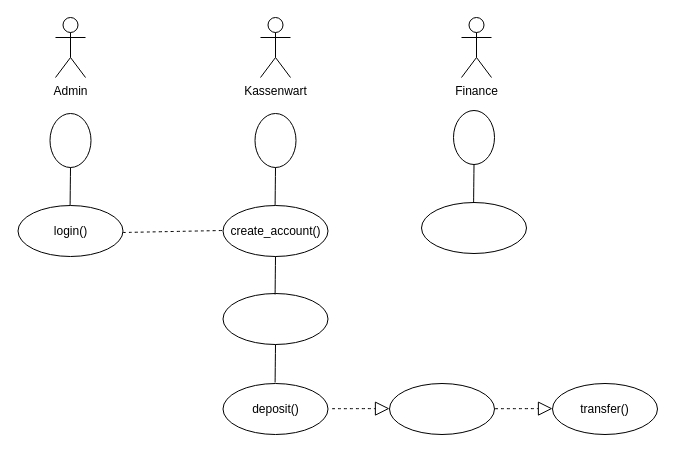
This 675x452 diagram has some shape labels left out. The centre of each missing label's shape, as x and y in pixels:
"assign_account()" belongs at point 275,318.
"view_balance()" belongs at point 473,228.
"withdraw()" belongs at point 441,408.
